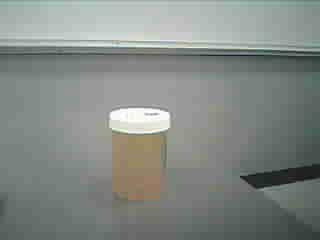Bottle B: (105, 103, 178, 205)
